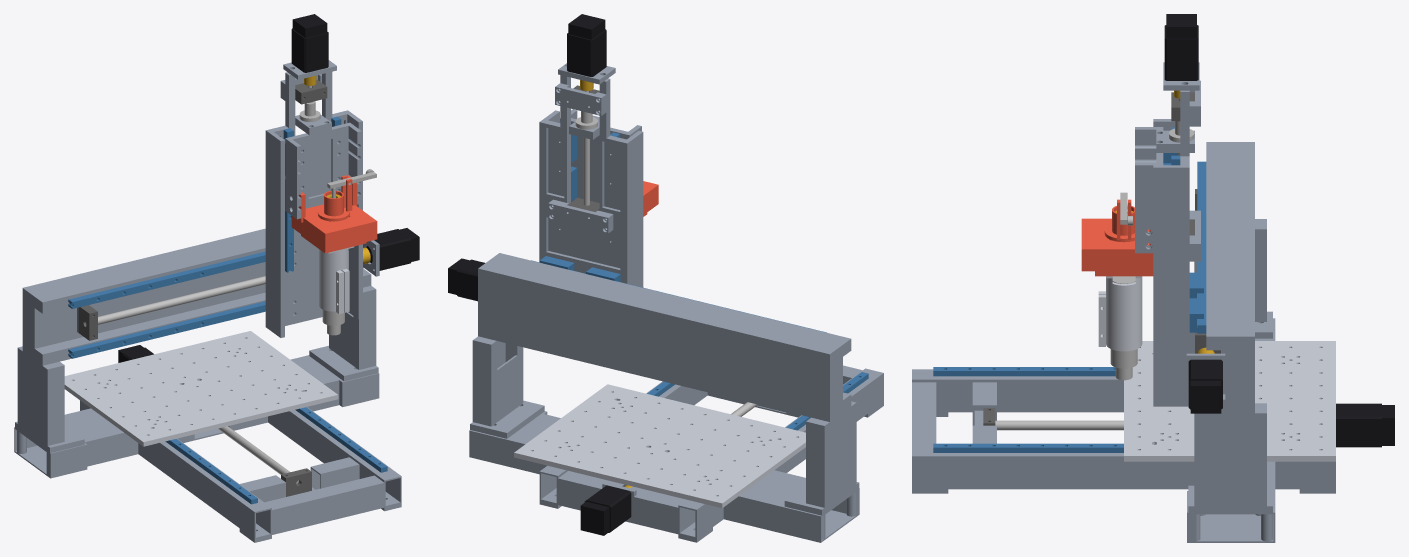
The model's file is standard_dock.glb.
3 renders of one model, left to right at view 1: azimuth 30°, elevation 25°; view 2: azimuth 150°, elevation 25°; view 3: azimuth 270°, elevation 25°, orthographic. The views are drawn at different scales.
Visible parts, largest first — view 1: table, beam, x_carriage, frame_cross_rear, z_slide, upright_L, frame_longeron_L, frame_cross_front, upright_R, frame_longeron_R, tooldock_master, x_rail_bot (+14 smaller); view 2: beam, table, x_carriage, frame_cross_rear, upright_R, upright_L, frame_cross_end, frame_longeron_L, z_motor, y_motor, frame_longeron_R, z_slide (+3 smaller); view 3: table, beam, frame_longeron_R, x_carriage, upright_R, frame_longeron_L, frame_cross_rear, head_mount, tooldock_master, z_slide, y_motor, z_motor (+9 smaller).
Part boxes in pixels (x1=…): table: x1=64, y1=331, x2=338, y2=446; beam: x1=22, y1=228, x2=379, y2=365; x_carriage: x1=265, y1=72, x2=362, y2=337; frame_cross_rear: x1=14, y1=355, x2=379, y2=478; z_slide: x1=285, y1=122, x2=361, y2=219; upright_L: x1=15, y1=346, x2=84, y2=453; frame_longeron_L: x1=80, y1=400, x2=271, y2=542; frame_cross_front: x1=265, y1=475, x2=384, y2=534; upright_R: x1=309, y1=285, x2=378, y2=381; frame_longeron_R: x1=268, y1=407, x2=401, y2=511; tooldock_master: x1=291, y1=175, x2=377, y2=251; x_rail_bot: x1=68, y1=301, x2=265, y2=358; beam: x1=478, y1=253, x2=851, y2=421; table: x1=514, y1=384, x2=805, y2=508; x_carriage: x1=539, y1=75, x2=643, y2=287; frame_cross_rear: x1=469, y1=411, x2=859, y2=542; upright_R: x1=470, y1=336, x2=544, y2=438; upright_L: x1=784, y1=401, x2=859, y2=515; frame_cross_end: x1=558, y1=471, x2=685, y2=534; frame_longeron_L: x1=678, y1=368, x2=883, y2=542; z_motor: x1=567, y1=14, x2=606, y2=76; y_motor: x1=580, y1=485, x2=631, y2=535; frame_longeron_R: x1=539, y1=381, x2=707, y2=508; z_slide: x1=560, y1=109, x2=641, y2=202; table: x1=1124, y1=341, x2=1335, y2=461; beam: x1=1186, y1=142, x2=1254, y2=413; frame_longeron_R: x1=912, y1=446, x2=1335, y2=493; x_carriage: x1=1153, y1=90, x2=1189, y2=406; upright_R: x1=1188, y1=403, x2=1272, y2=512; frame_longeron_L: x1=912, y1=369, x2=1123, y2=416; frame_cross_rear: x1=1187, y1=318, x2=1275, y2=542; head_mount: x1=1098, y1=276, x2=1142, y2=351; tooldock_master: x1=1081, y1=218, x2=1153, y2=271; z_slide: x1=1135, y1=127, x2=1163, y2=253; y_motor: x1=1336, y1=403, x2=1394, y2=447; z_motor: x1=1164, y1=14, x2=1198, y2=80.
Size of the model in its own units: 857 by 883 by 797.
